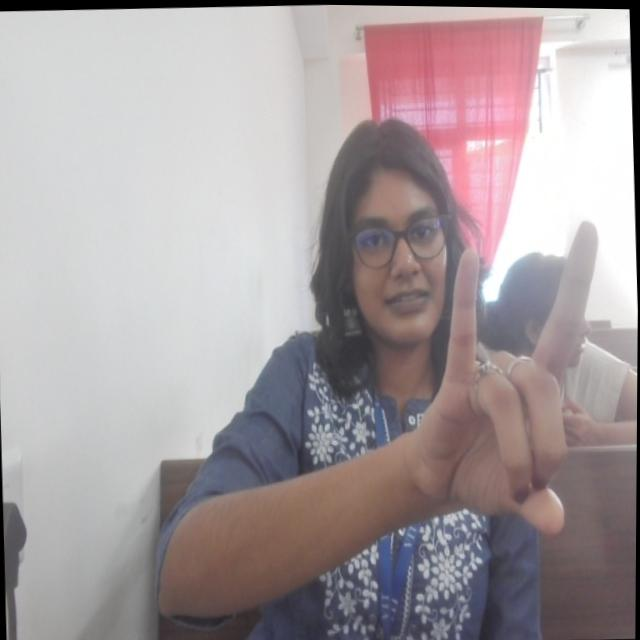iloveyou: (406, 212, 612, 541)
